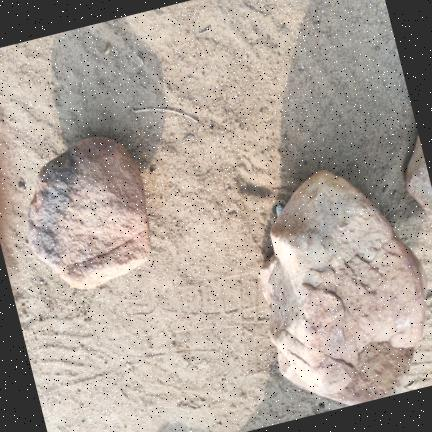Rocks: (259, 170, 426, 405), (27, 137, 149, 287), (404, 136, 431, 212), (17, 180, 25, 189)
